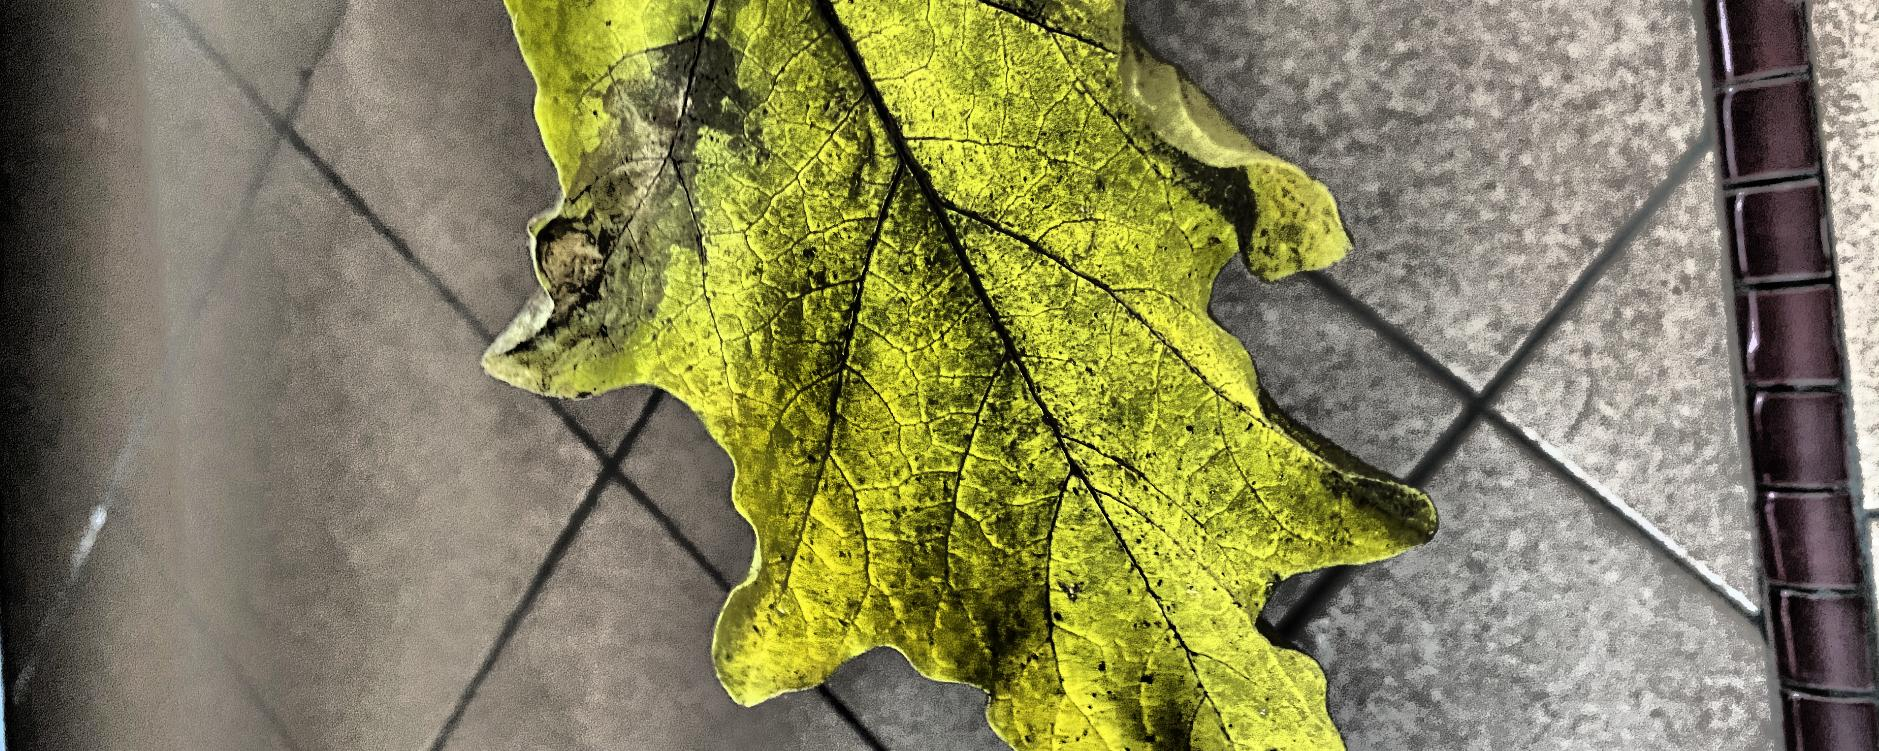Critical Stress: (0, 155, 1366, 751)
